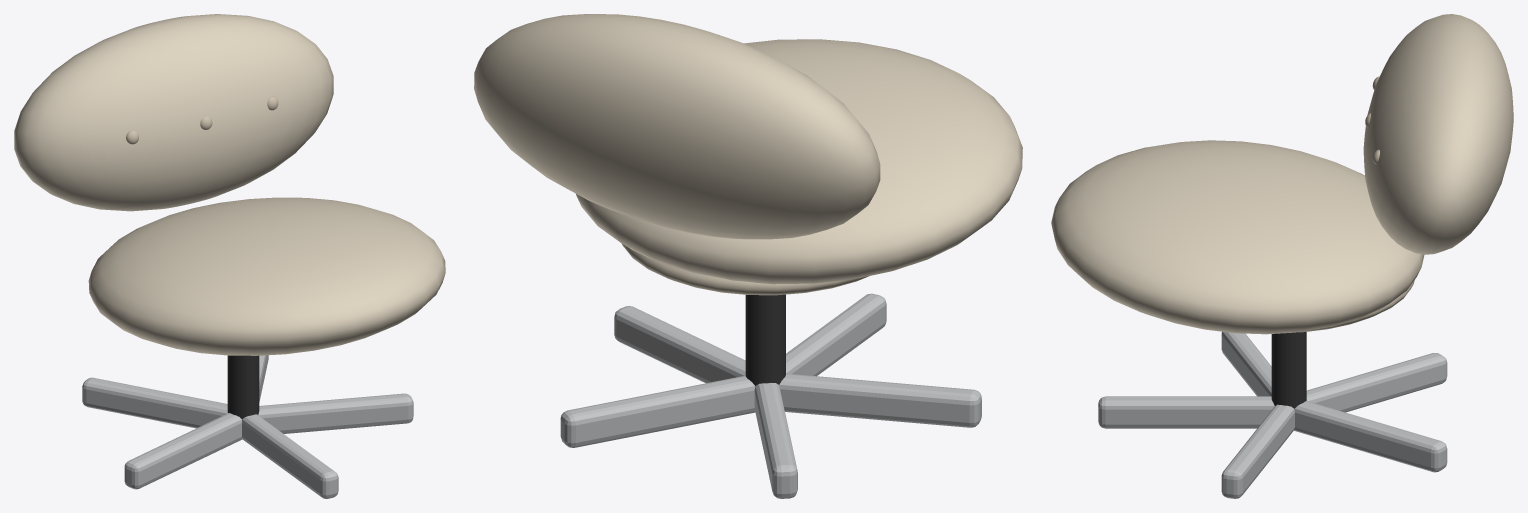
3 renders of one model, left to right at view 1: azimuth 30°, elevation 25°; view 2: azimuth 150°, elevation 25°; view 3: azimuth 270°, elevation 25°, orthographic. The views are drawn at different scales.
Visible parts, largest first — view 1: Respaldo redondeado reclinado, Asiento acolchado ancho, Radio derecho delantero, Radio izquierdo trasero, Radio izquierdo delantero, Radio delantero, Columna central; view 2: Respaldo redondeado reclinado, Asiento acolchado ancho, Radio izquierdo delantero, Radio derecho trasero, Radio derecho delantero, Radio delantero, Columna central, Radio izquierdo trasero, Soporte bajo asiento; view 3: Asiento acolchado ancho, Respaldo redondeado reclinado, Radio delantero, Radio derecho trasero, Radio izquierdo trasero, Radio derecho delantero, Columna central, Radio izquierdo delantero.
Part boxes in pixels (x1,y1,x2,y2): Respaldo redondeado reclinado: (14, 14, 333, 211); Asiento acolchado ancho: (88, 197, 445, 355); Radio derecho delantero: (258, 393, 413, 433); Radio izquierdo trasero: (82, 377, 227, 428); Radio izquierdo delantero: (124, 413, 242, 489); Radio delantero: (242, 414, 338, 498); Columna central: (227, 355, 259, 418); Respaldo redondeado reclinado: (474, 14, 880, 239); Asiento acolchado ancho: (576, 39, 1022, 284); Radio izquierdo delantero: (779, 373, 981, 427); Radio derecho trasero: (560, 375, 755, 447); Radio derecho delantero: (614, 306, 745, 383); Radio delantero: (786, 293, 886, 376); Columna central: (745, 294, 785, 385); Radio izquierdo trasero: (754, 383, 797, 498); Soporte bajo asiento: (621, 243, 869, 295); Asiento acolchado ancho: (1051, 140, 1424, 334); Respaldo redondeado reclinado: (1363, 14, 1513, 254); Radio delantero: (1098, 396, 1274, 428); Radio derecho trasero: (1294, 401, 1447, 472); Radio izquierdo trasero: (1306, 353, 1447, 412); Radio derecho delantero: (1221, 404, 1294, 498); Columna central: (1271, 332, 1306, 408); Radio izquierdo delantero: (1221, 331, 1271, 396).
Bounding box in the file's own units: 0.63 × 0.68 × 0.75.
